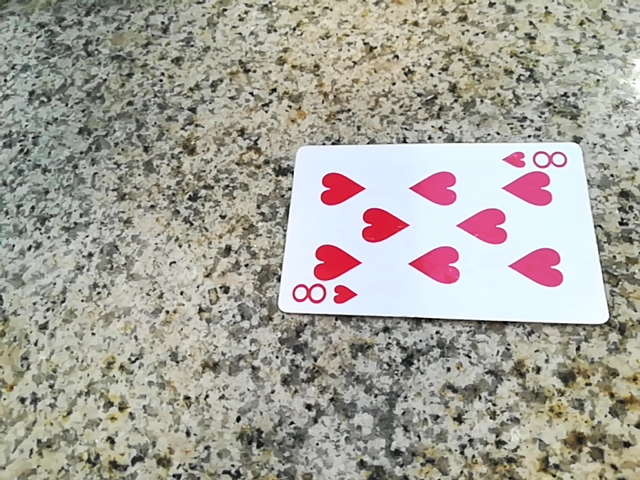hx 8: (283, 148, 604, 330)
